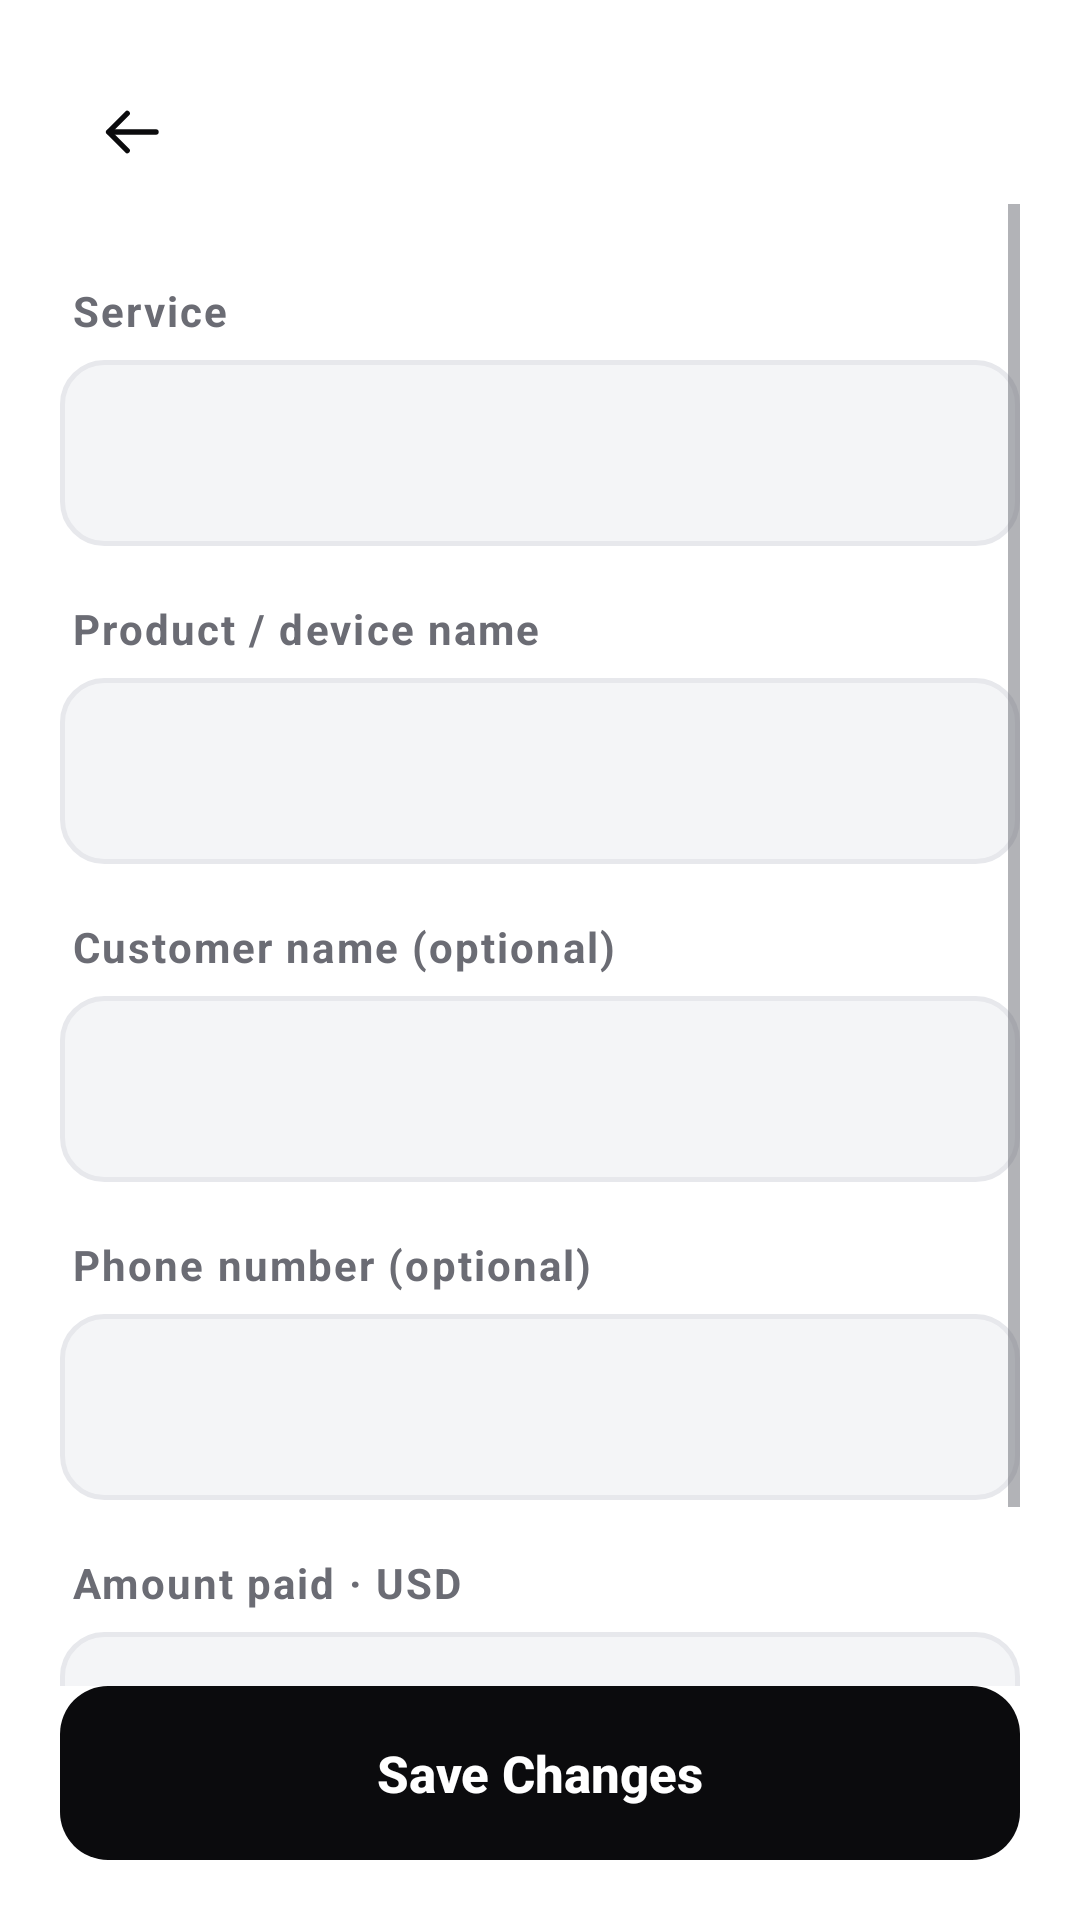

Point at icon controls on the screen. Image size 1080x1920, points as point (x, y).
Back: point (132, 132)
